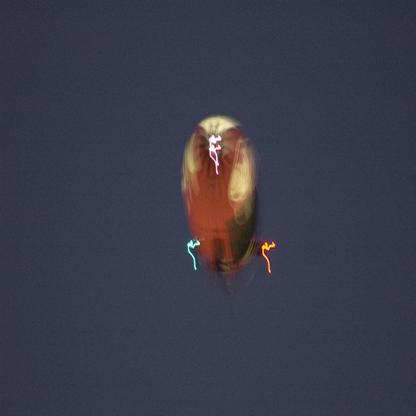Airship: (174, 111, 281, 299)
